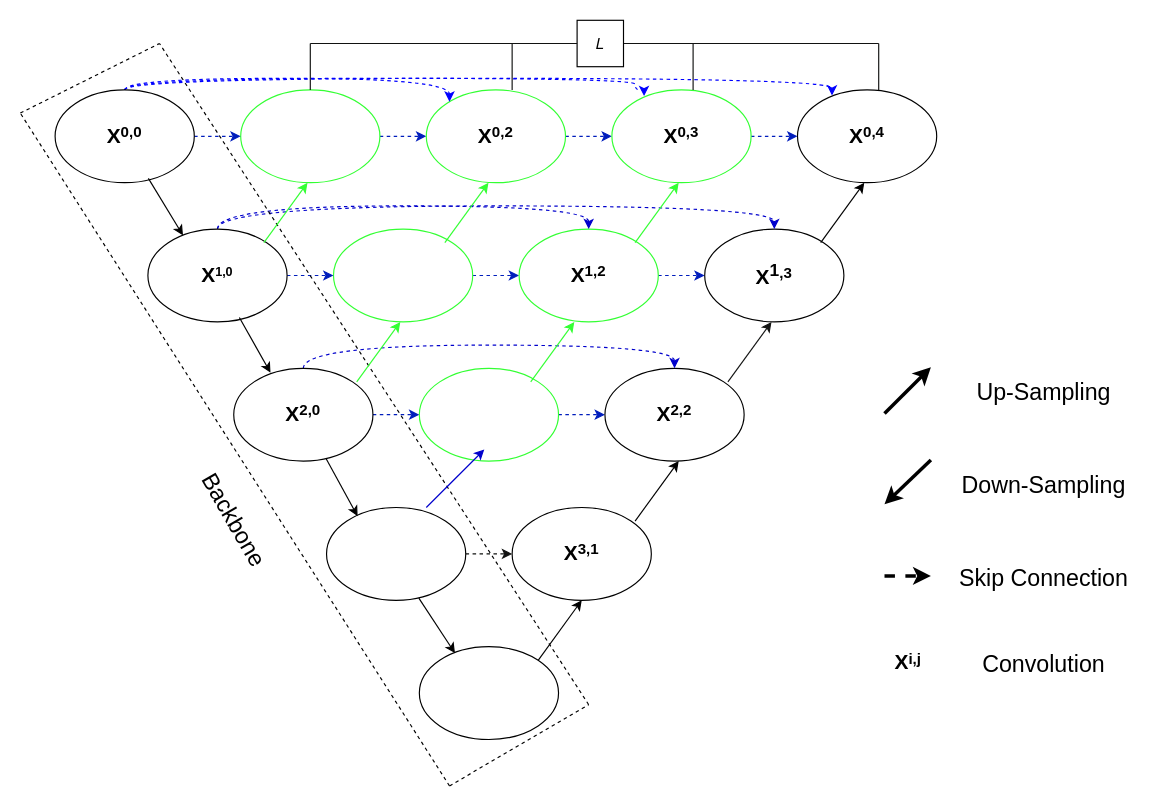
This 1162x807 diagram has some shape labels left out. Here are the shapes that lost their labels. From the top down, the centre of each, then its label:
At point 310,136: "X 0,1".
At point 402,275: "X 1,1".
At point 488,414: "X 2,1".
At point 395,553: "X 3,0".
At point 488,693: "X 4,0".
